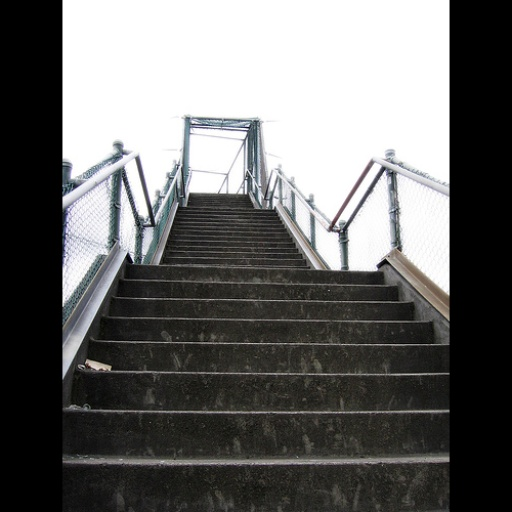Stairs: (64, 264, 449, 512), (191, 196, 213, 211)
